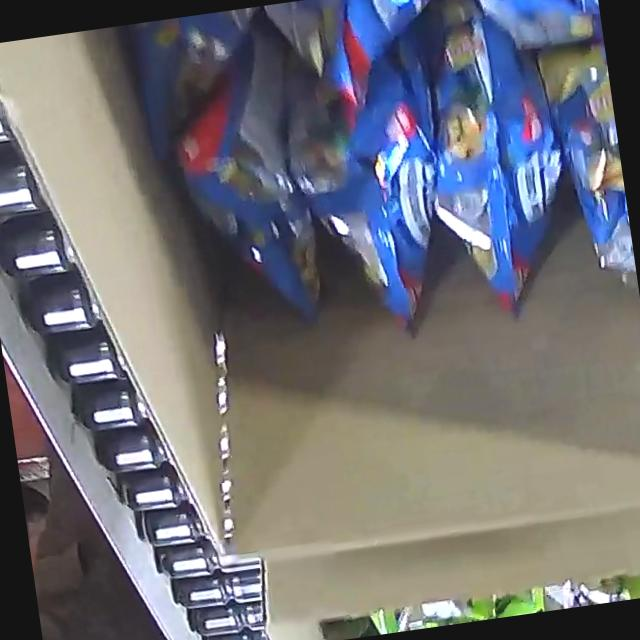paprika: (58, 0, 640, 412)
yogurt: (360, 558, 640, 636)
